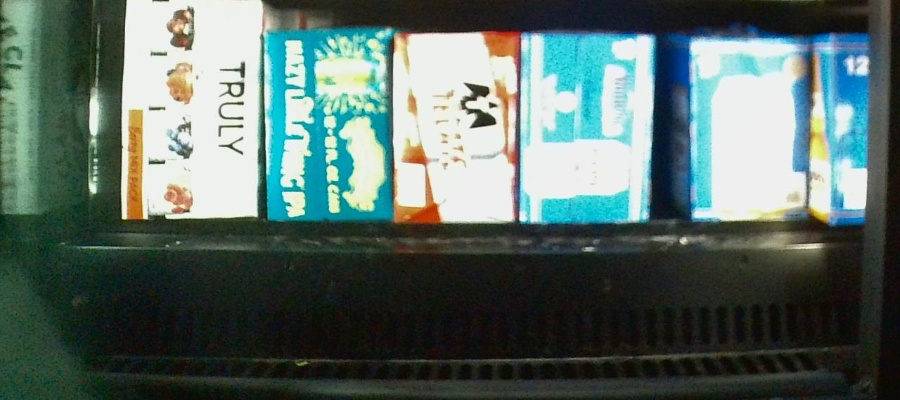bottle: (121, 1, 264, 223), (660, 33, 808, 225), (517, 29, 651, 223), (262, 29, 390, 225), (394, 31, 515, 227), (815, 33, 868, 229)
